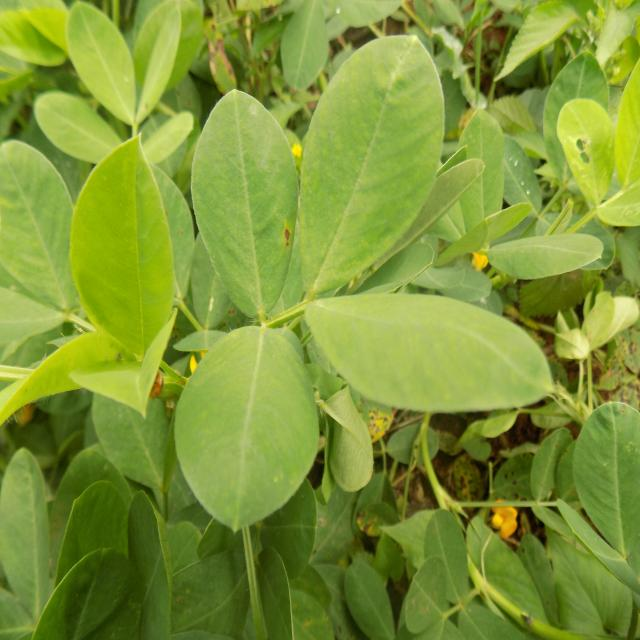Ground nut_healthy: (301, 31, 447, 290), (306, 293, 552, 413), (175, 326, 317, 527), (192, 88, 300, 318), (70, 134, 178, 363)
